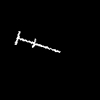double_crochet: (15, 31, 59, 52)
